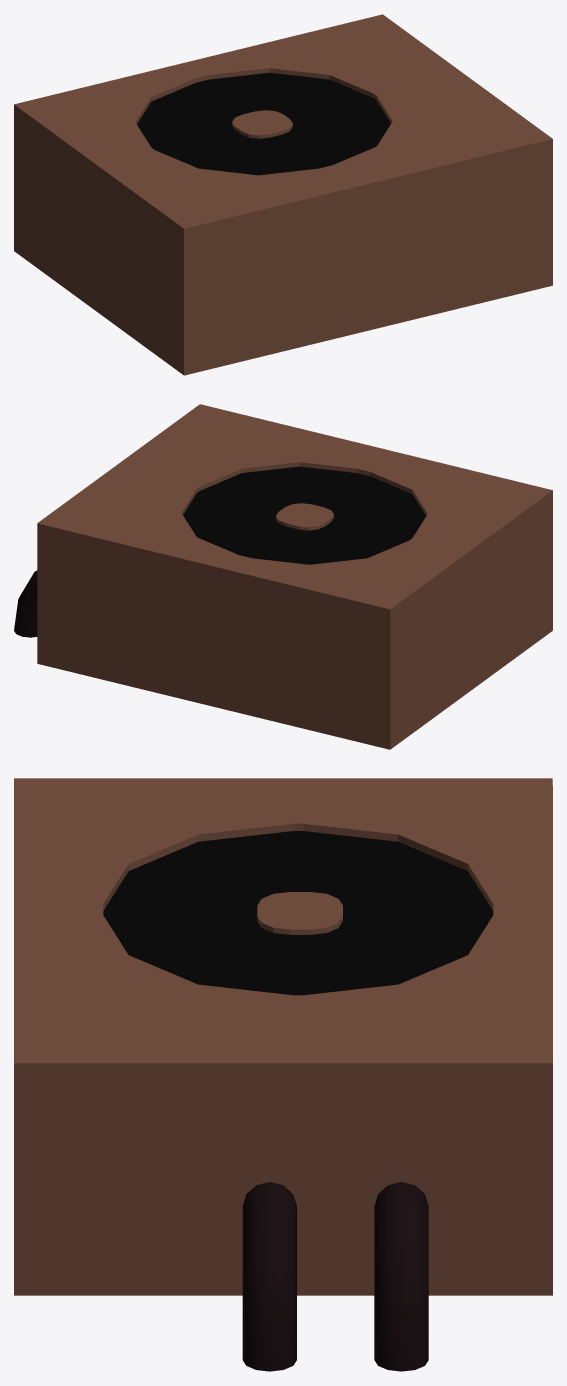
Rendered from FBX_Cooler_C.fbx.
3 renders of one model, top to bottom at view 1: azimuth 30°, elevation 25°; view 2: azimuth 150°, elevation 25°; view 3: azimuth 270°, elevation 25°, orthographic. The views are drawn at different scales.
Parts seen in each view (by area): view 1: Cooler_C; view 2: Cooler_C; view 3: Cooler_C.
Part boxes in pixels (x1,y1,x2,y2): Cooler_C: (14,14,552,375); Cooler_C: (14,404,552,749); Cooler_C: (14,778,552,1371).
Bounding box in the file's own units: 2.95 × 1.03 × 1.98.
